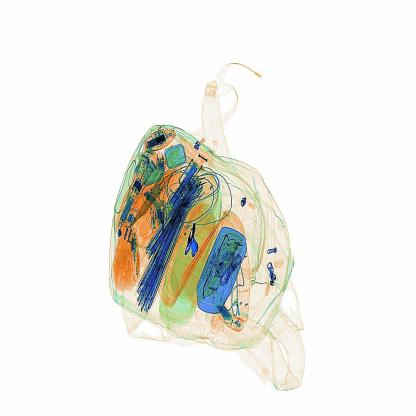wrench: (180, 215, 210, 262)
